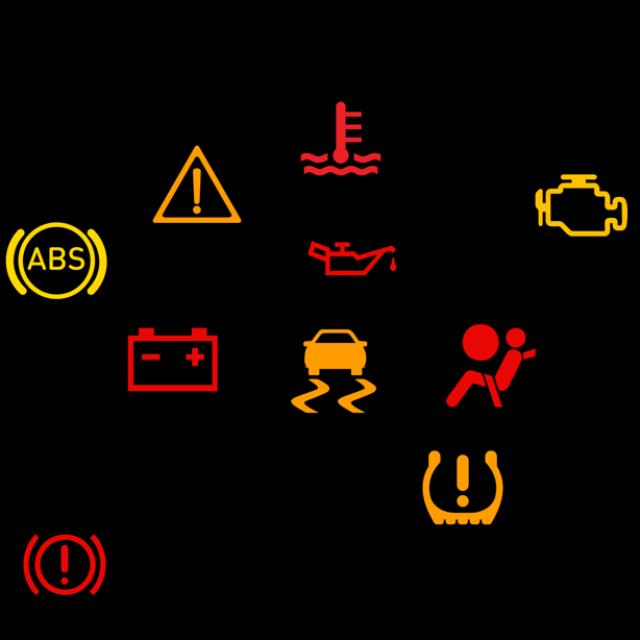Anti Lock Braking System: (1, 205, 112, 316)
Braking System Issue: (9, 510, 120, 620)
Charging System Issue: (118, 304, 228, 415)
Check Engine: (526, 150, 637, 261)
Electronic Stability Problem -ESP-: (278, 316, 389, 426)
Engine Overheating Warning Light: (286, 83, 396, 194)
Low Engine Oil Warning Light: (297, 203, 408, 314)
Low Tire Pressure Warning Light: (408, 433, 518, 543)
Master warning light: (142, 129, 252, 240)
SRS-Airbag: (436, 311, 546, 421)
